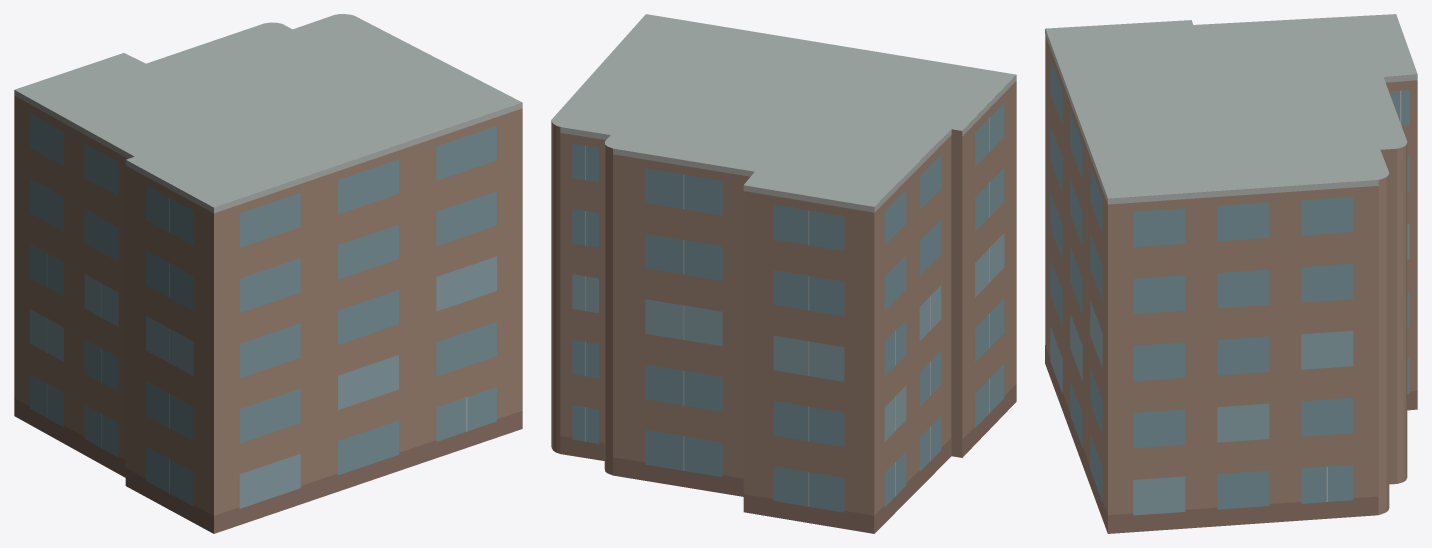
Rendered from survey-upis-33001368.glb.
3 renders of one model, left to right at view 1: azimuth 30°, elevation 25°; view 2: azimuth 150°, elevation 25°; view 3: azimuth 270°, elevation 25°, orthographic. The views are drawn at different scales.
Parts seen in each view (by area): view 1: survey-upis-33001368.tmp; view 2: survey-upis-33001368.tmp; view 3: survey-upis-33001368.tmp.
Part boxes in pixels (x1,y1,x2,y2): survey-upis-33001368.tmp: [14, 14, 522, 533]; survey-upis-33001368.tmp: [551, 14, 1016, 533]; survey-upis-33001368.tmp: [1045, 14, 1417, 533].
Bounding box in the file's own units: 16.43 × 13.9 × 14.01.
